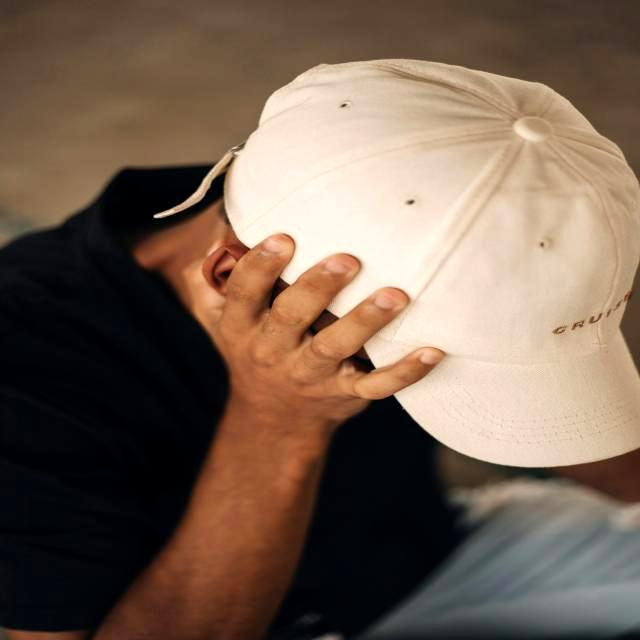no_hard_hat: (225, 60, 638, 466)
person: (2, 60, 638, 640)
